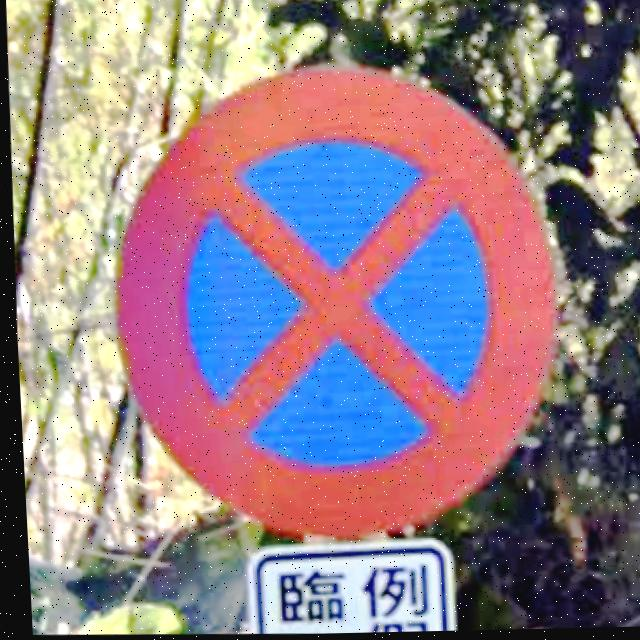nopark: (110, 67, 553, 545)
